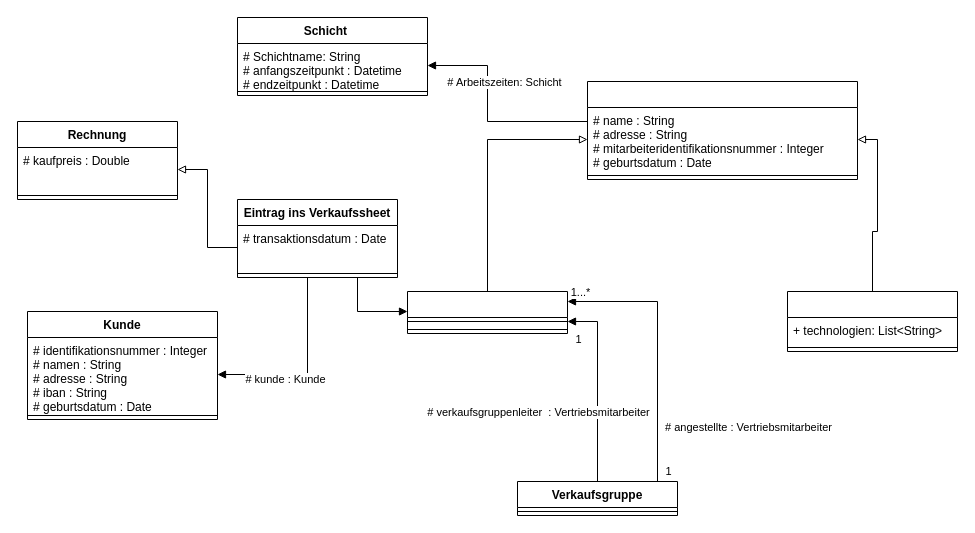
Image size: 975x533. Some labels were removed from this diagram. The shapes that lost their labels are listed below. From the top down, each one's box as (x1, y1, x2, y2) in pixels, then its label:
(586, 80, 858, 180): {{abstract}} Mitarbeiter
(406, 290, 568, 334): Vertriebsmitarbeiter
(786, 290, 958, 352): Rechnungswesenmitarbeiter
